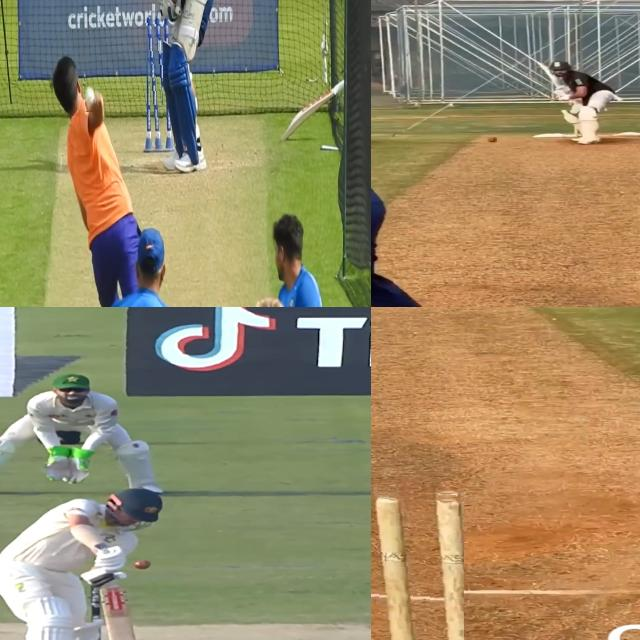Cricket ball: (371, 487, 464, 640), (85, 80, 97, 112), (134, 559, 153, 570), (487, 136, 498, 142)
Stumps: (143, 16, 163, 151)
